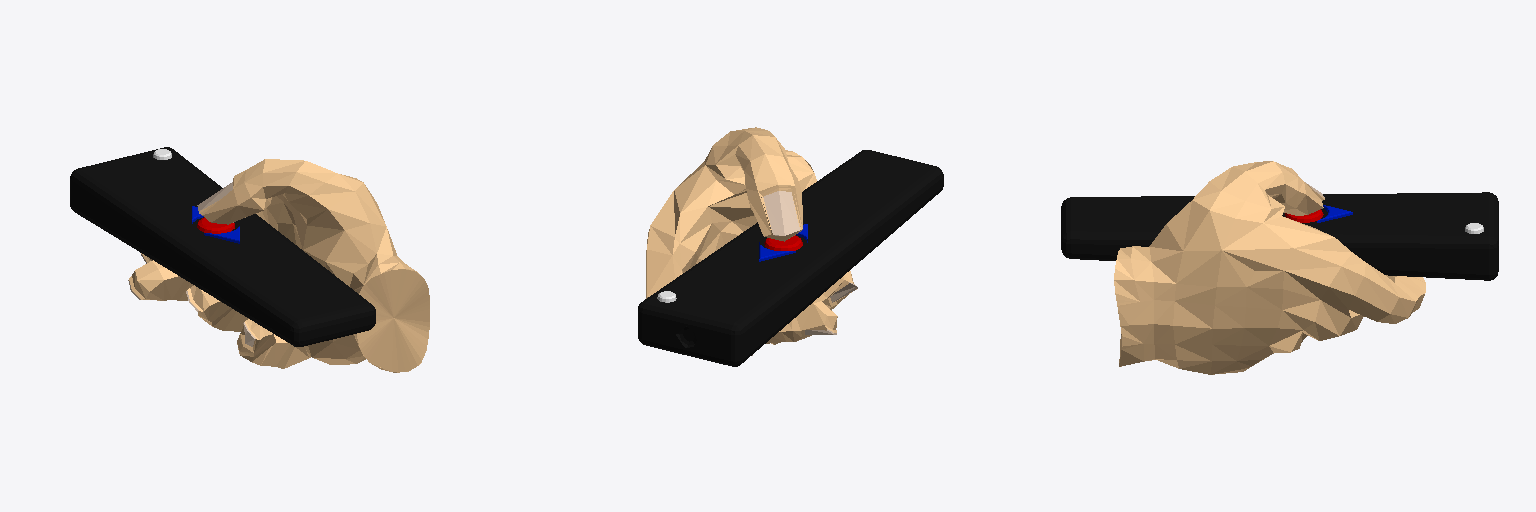
File: remote_and_hand.obj
3 views of the same model, side by side, from view 1: azimuth 30°, elevation 25°; view 2: azimuth 150°, elevation 25°; view 3: azimuth 270°, elevation 25° (orthographic).
Visible parts, largest first — view 1: polymsh1, Remote; view 2: Remote, polymsh1; view 3: polymsh1, Remote.
Boxes of the visible parts, x1=… form: polymsh1: x1=128, y1=159, x2=429, y2=372; Remote: x1=70, y1=147, x2=375, y2=346; Remote: x1=638, y1=150, x2=943, y2=366; polymsh1: x1=646, y1=127, x2=857, y2=355; polymsh1: x1=1114, y1=161, x2=1425, y2=374; Remote: x1=1061, y1=192, x2=1498, y2=280.
Bounding box in the file's own units: 182 × 182 × 359.